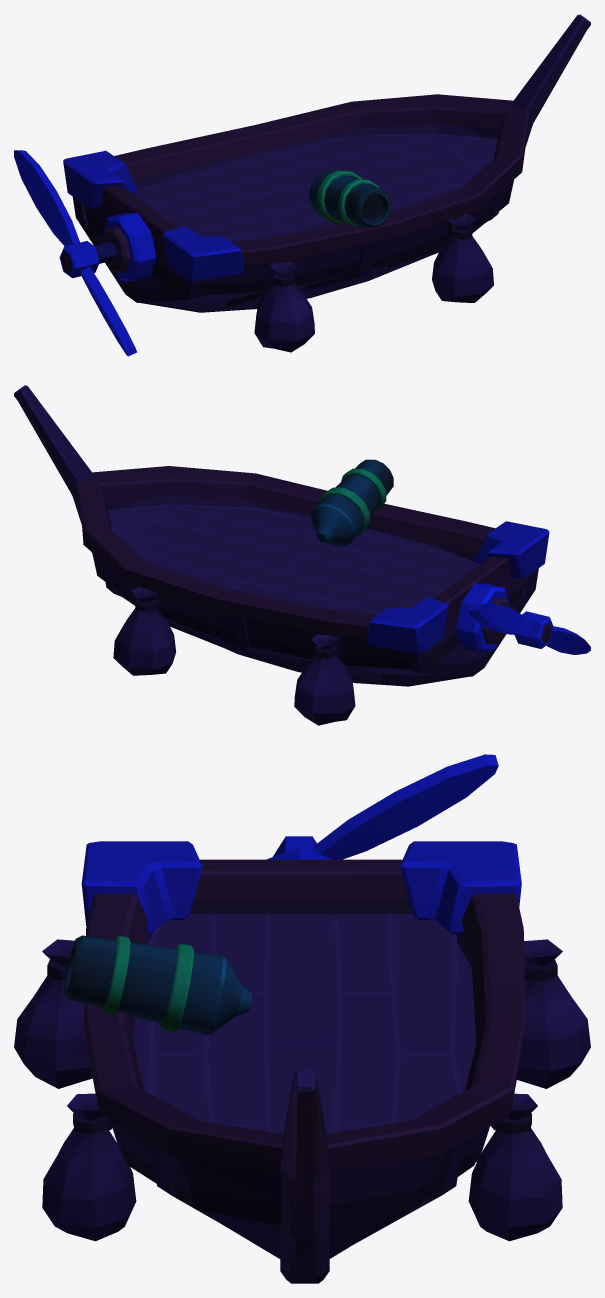
File: Cannon_Boads.fbx
3 views of the same model, one above another, from view 1: azimuth 30°, elevation 25°; view 2: azimuth 150°, elevation 25°; view 3: azimuth 270°, elevation 25° (orthographic). The views are drawn at different scales.
Visible parts, largest first — view 1: ships.3, Cannon; view 2: ships.3, Cannon; view 3: ships.3, Cannon.
Part boxes in pixels (box(x1,y1,x2,y2)): ships.3: box(14, 14, 590, 356); Cannon: box(308, 169, 390, 227); ships.3: box(14, 385, 590, 725); Cannon: box(310, 459, 393, 546); ships.3: box(14, 754, 590, 1283); Cannon: box(64, 935, 252, 1034).
Size of the model in its own units: 43.84 by 16.71 by 25.81.
